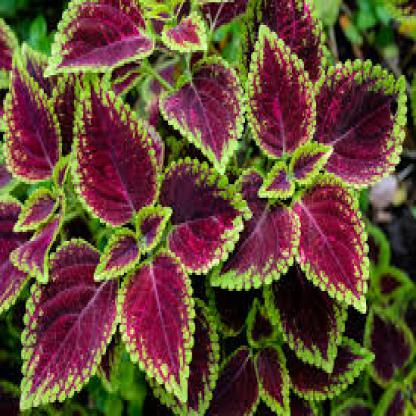Bunga Coleus: (21, 17, 406, 376)
